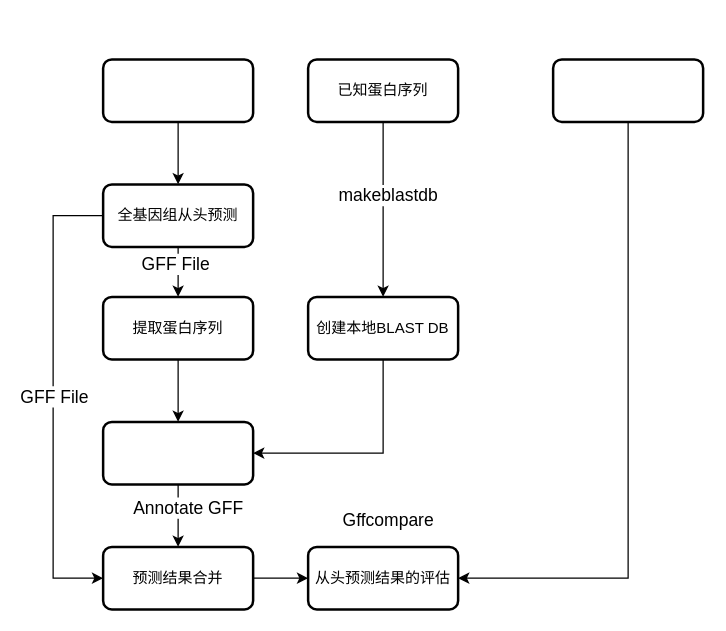
Some shapes in this 726 by 631 pixel diagram are drawn without their labels. Here are the shapes that lost their labels. From the top down, the box of each, then its label:
(101, 58, 254, 122): 基因组序列
(551, 58, 704, 122): 原始GFF文档
(101, 420, 254, 485): 鉴别预测出来的基因
